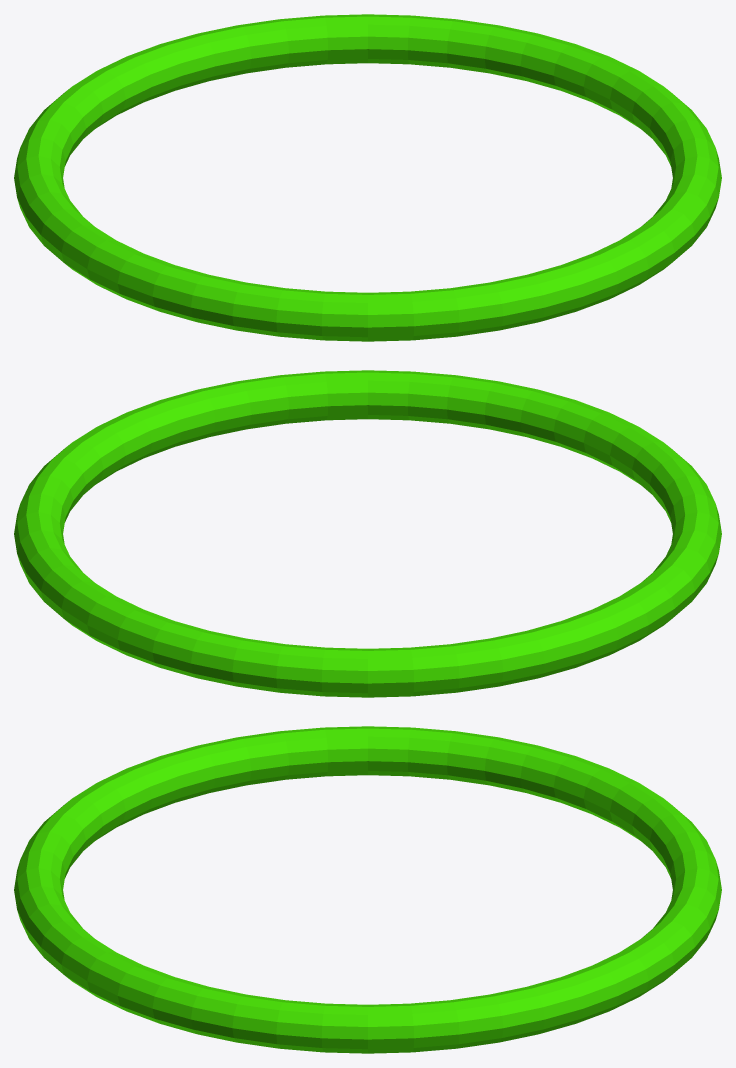
File: circulo.fbx
3 renders of one model, top to bottom at view 1: azimuth 30°, elevation 25°; view 2: azimuth 150°, elevation 25°; view 3: azimuth 270°, elevation 25°, orthographic.
Parts seen in each view (by area): view 1: Torus; view 2: Torus; view 3: Torus.
Part boxes in pixels (x1,y1,x2,y2): Torus: (14,14,721,341); Torus: (14,370,721,697); Torus: (14,726,721,1053).
Size of the model in its own units: 202 by 14 by 202.
